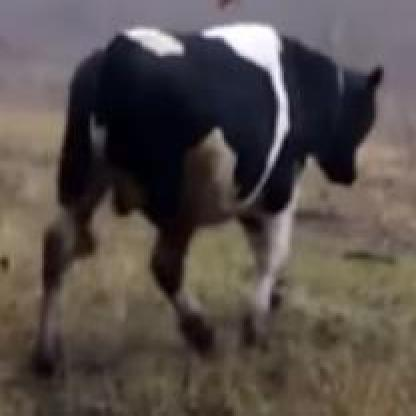cow: (29, 23, 385, 382)
